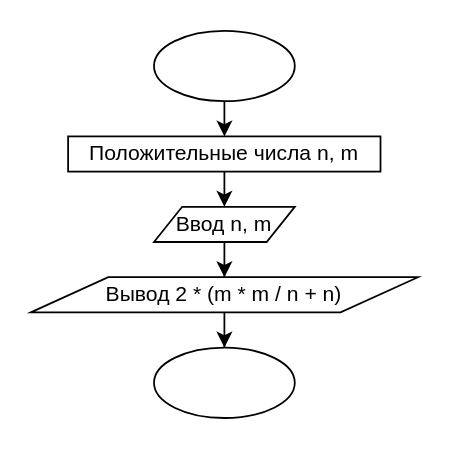
This 449x449 diagram has some shape labels left out. Here are the shapes that lost their labels. From the top down, the centre of each, then its label:
At pixel 223 65: "Начало".
At pixel 223 382: "Конец".
